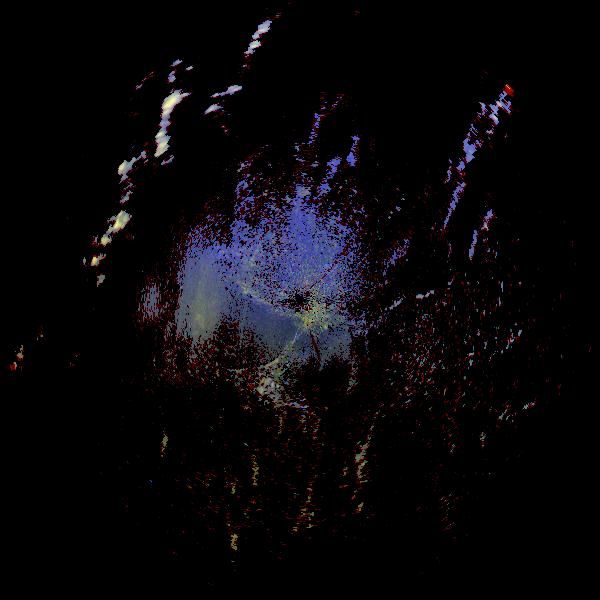roost: (101, 287, 248, 434)
